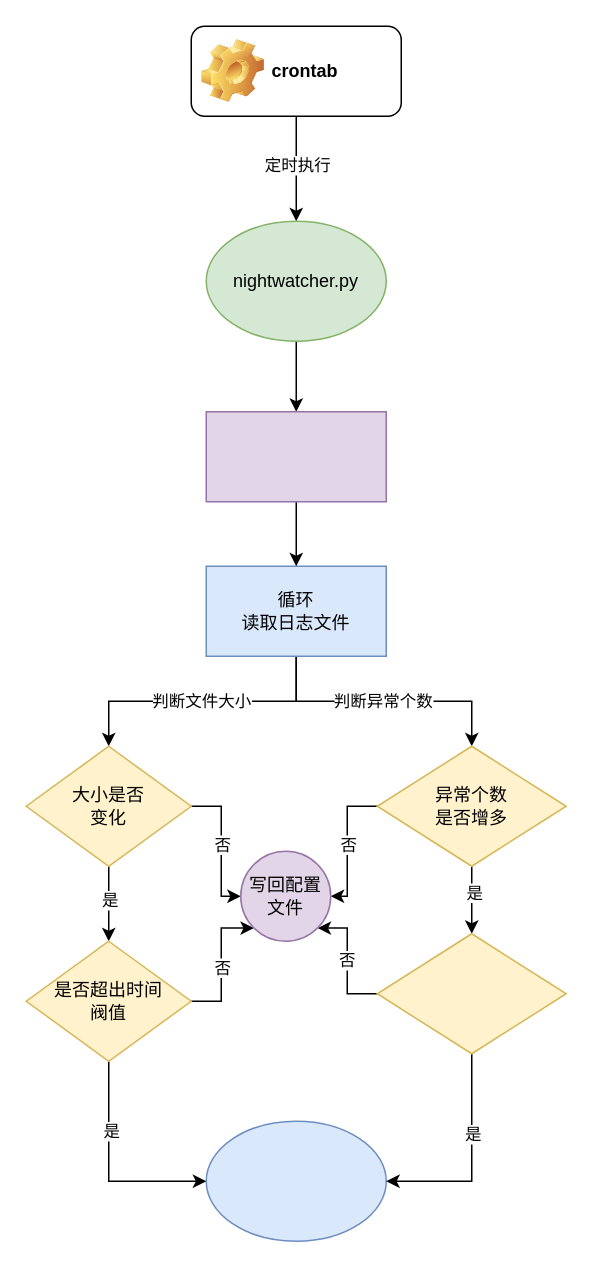
Image size: 593x1268. Some labels were removed from this diagram. Here are the shapes that lost their labels. From the top down, the centre of each, then its label:
At [295,456]: "读取配置文件".
At [471,993]: "是否超出个数 阀值".
At [295,1180]: "发送钉钉 消息".
